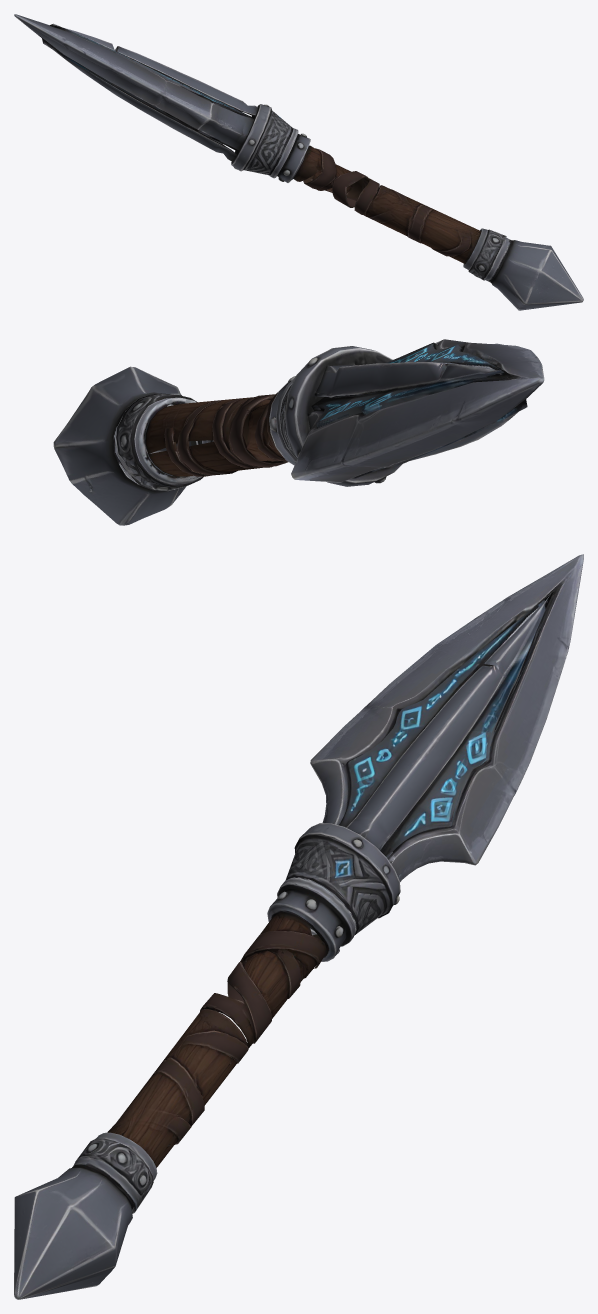
The model's file is guardian.glb.
3 views of the same model, one above another, from view 1: azimuth 30°, elevation 25°; view 2: azimuth 150°, elevation 25°; view 3: azimuth 270°, elevation 25° (orthographic). The views are drawn at different scales.
Visible parts, largest first — view 1: tripo_node_a4d07652-0370-4040-bcc6-8ea09f8ed6d5; view 2: tripo_node_a4d07652-0370-4040-bcc6-8ea09f8ed6d5; view 3: tripo_node_a4d07652-0370-4040-bcc6-8ea09f8ed6d5.
Part boxes in pixels (box(x1,y1,x2,y2)): tripo_node_a4d07652-0370-4040-bcc6-8ea09f8ed6d5: box(14, 14, 583, 310); tripo_node_a4d07652-0370-4040-bcc6-8ea09f8ed6d5: box(53, 339, 544, 525); tripo_node_a4d07652-0370-4040-bcc6-8ea09f8ed6d5: box(14, 554, 583, 1299).
Bounding box in the file's own units: 0.9995 × 0.646 × 0.7515.
Materials: 1 (1 with a texture image).
